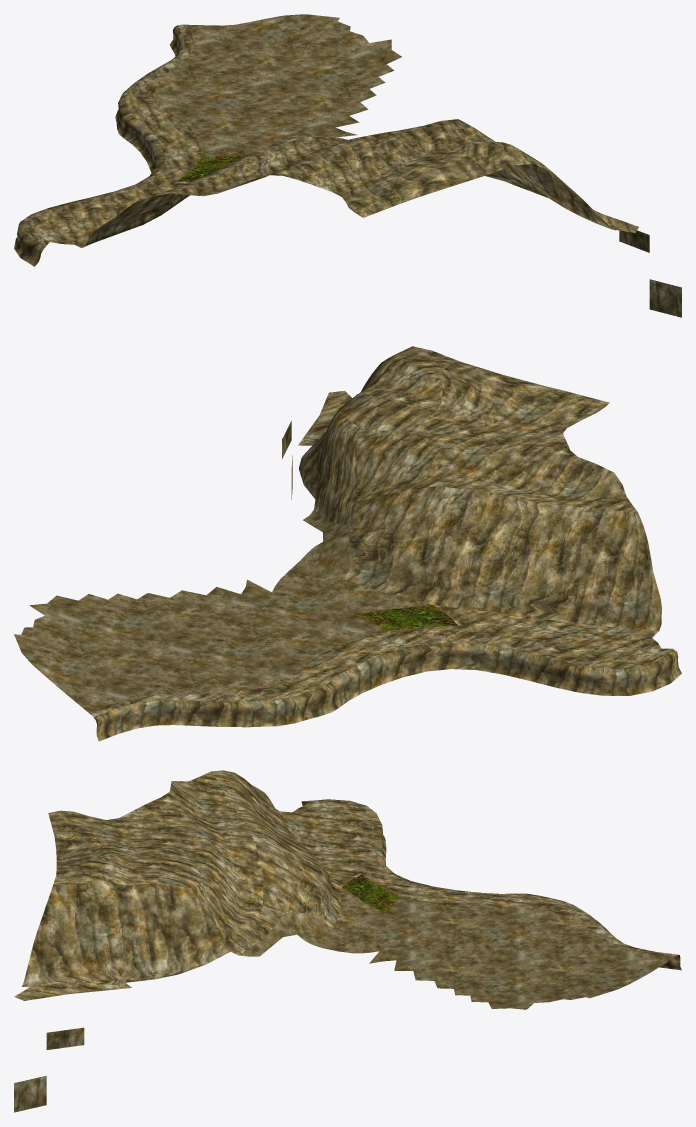
The model's file is RM_PLAYSURFACE_FINAL_OBJECT03.fbx.
The picture shows the model from 3 angles, top to bottom: view 1: azimuth 30°, elevation 25°; view 2: azimuth 150°, elevation 25°; view 3: azimuth 270°, elevation 25°; orthographic projection. The views are drawn at different scales.
Visible parts, largest first — view 1: RM_PLAYSURFACE_FINAL_OBJECT03; view 2: RM_PLAYSURFACE_FINAL_OBJECT03; view 3: RM_PLAYSURFACE_FINAL_OBJECT03.
Part boxes in pixels (bbox=[...]): RM_PLAYSURFACE_FINAL_OBJECT03: bbox=[14, 14, 681, 317]; RM_PLAYSURFACE_FINAL_OBJECT03: bbox=[14, 346, 681, 741]; RM_PLAYSURFACE_FINAL_OBJECT03: bbox=[14, 770, 681, 1112].
Bounding box in the file's own units: 356676 × 121936 × 424048.
Materials: 5 (5 with a texture image).
